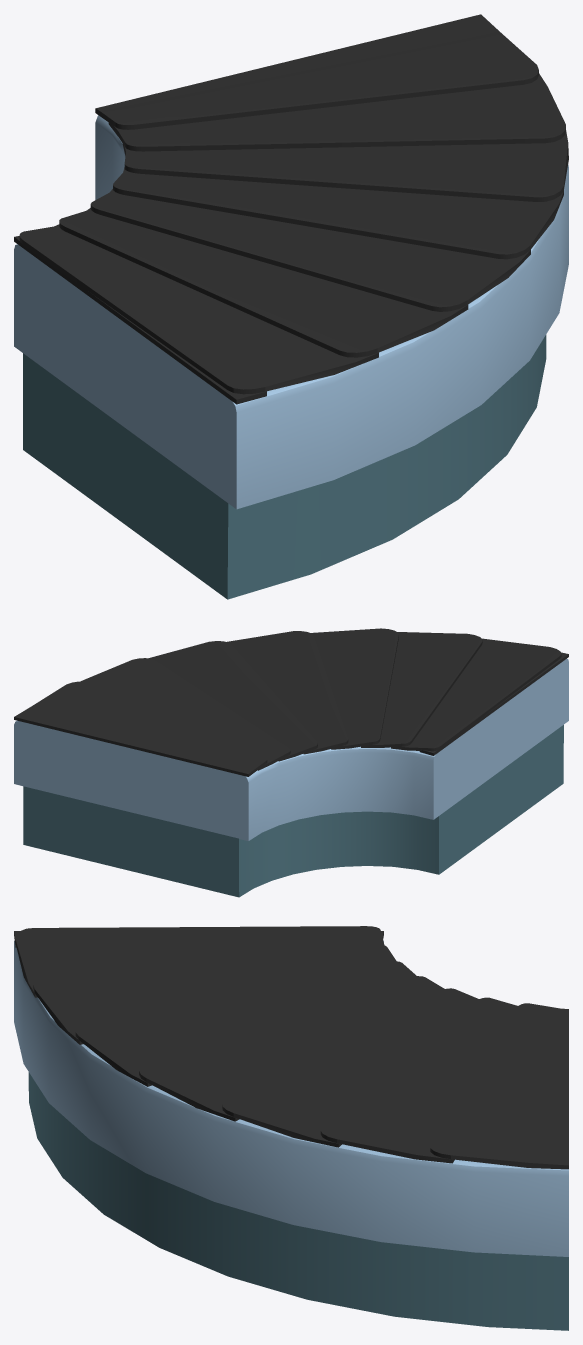
Rendered from airport-baggage-carousel-2.glb.
3 renders of one model, top to bottom at view 1: azimuth 30°, elevation 25°; view 2: azimuth 150°, elevation 25°; view 3: azimuth 270°, elevation 25°, orthographic. The views are drawn at different scales.
Visible parts, largest first — view 1: 12.5.BaggageClaimBand_AIRPORT_0; view 2: 12.5.BaggageClaimBand_AIRPORT_0; view 3: 12.5.BaggageClaimBand_AIRPORT_0.
Boxes of the visible parts, x1,y1,x2,y2 form: 12.5.BaggageClaimBand_AIRPORT_0: (14,14,568,599); 12.5.BaggageClaimBand_AIRPORT_0: (14,628,568,897); 12.5.BaggageClaimBand_AIRPORT_0: (14,926,568,1330).
Bounding box in the file's own units: 2.63 × 0.9172 × 2.63.
Materials: 1 (1 with a texture image).
